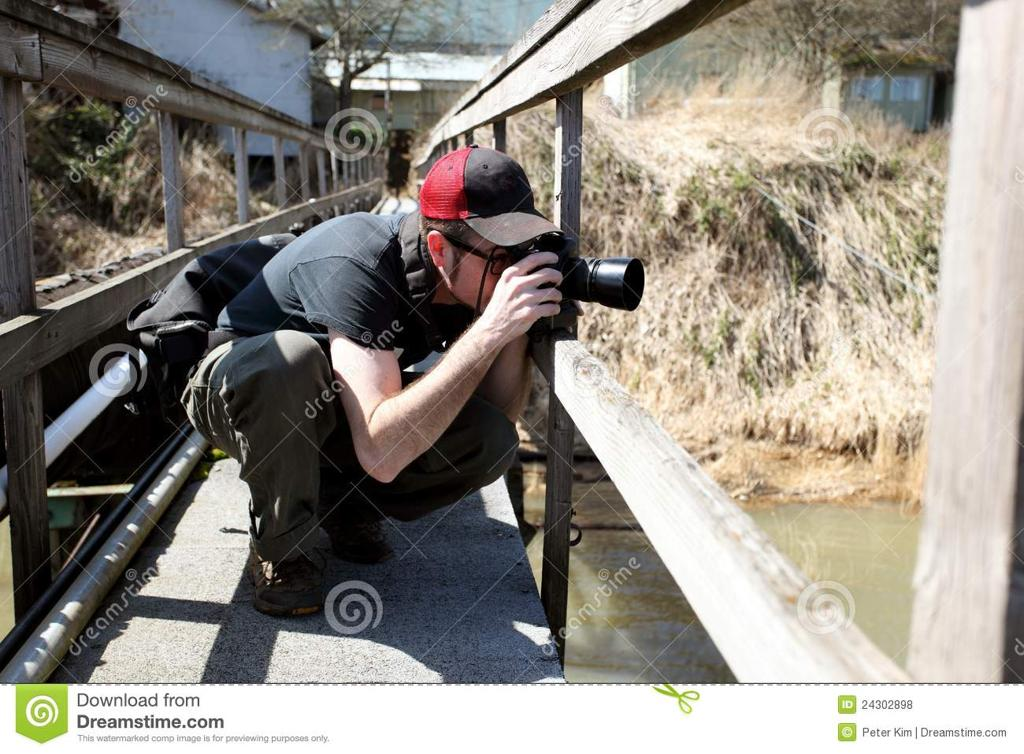face: (458, 222, 542, 320)
